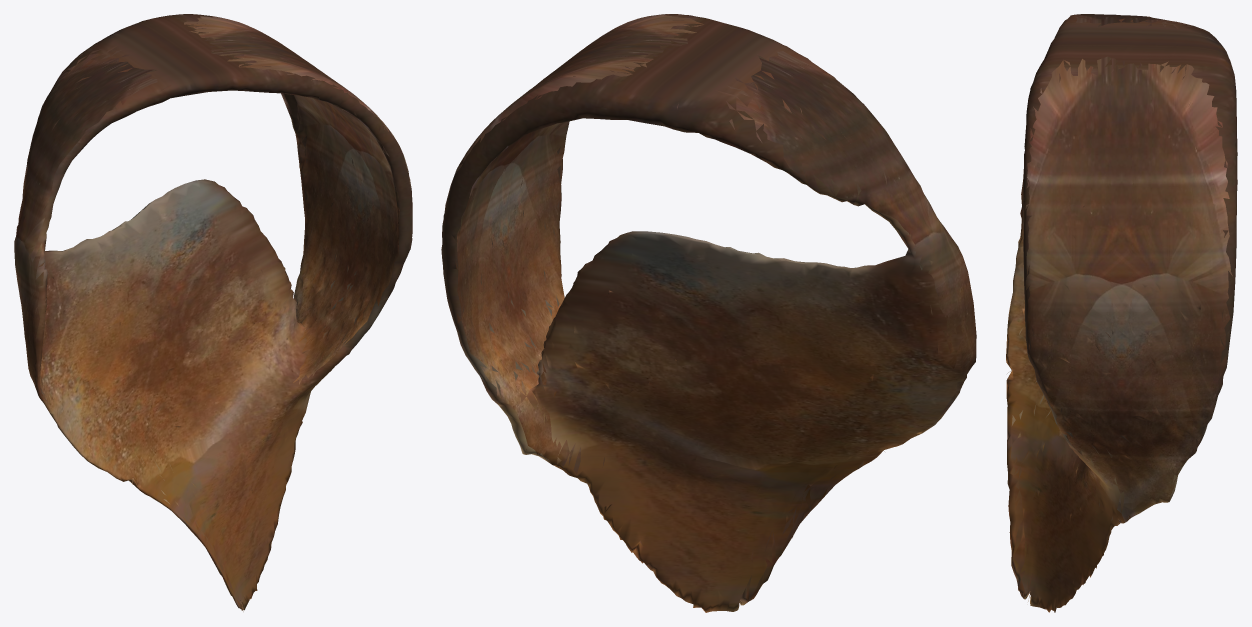
File: hy3d-esc-033.glb
The picture shows the model from 3 angles, left to right: view 1: azimuth 30°, elevation 25°; view 2: azimuth 150°, elevation 25°; view 3: azimuth 270°, elevation 25°; orthographic projection. The views are drawn at different scales.
Visible parts, largest first — view 1: world; view 2: world; view 3: world.
Boxes of the visible parts, box(x1,y1,x2,y2) form: world: box(14, 14, 412, 611); world: box(441, 14, 976, 612); world: box(1006, 14, 1237, 612).
Bounding box in the file's own units: 0.793 × 1.05 × 0.399.
1 material, 1 textured.
